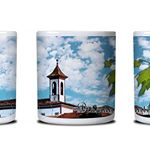cups: (32, 24, 122, 127)
